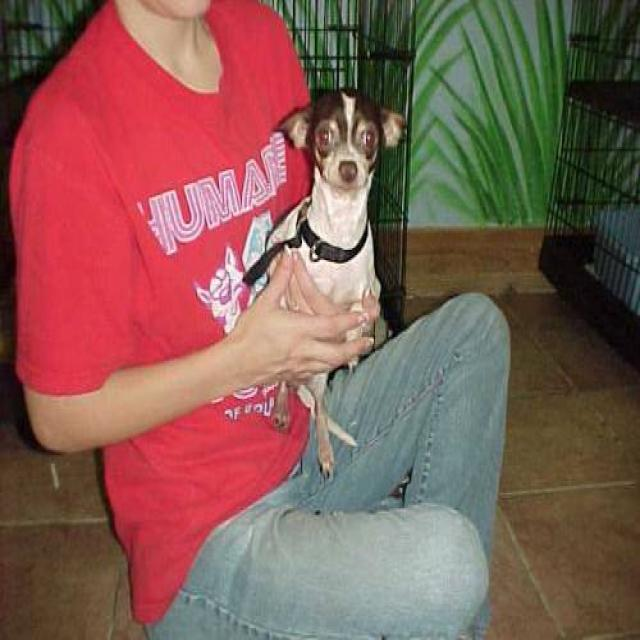dog: (241, 86, 407, 479)
